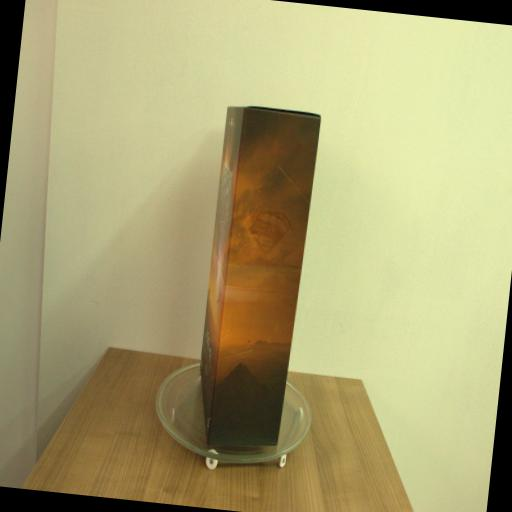superman: (193, 103, 321, 447)
